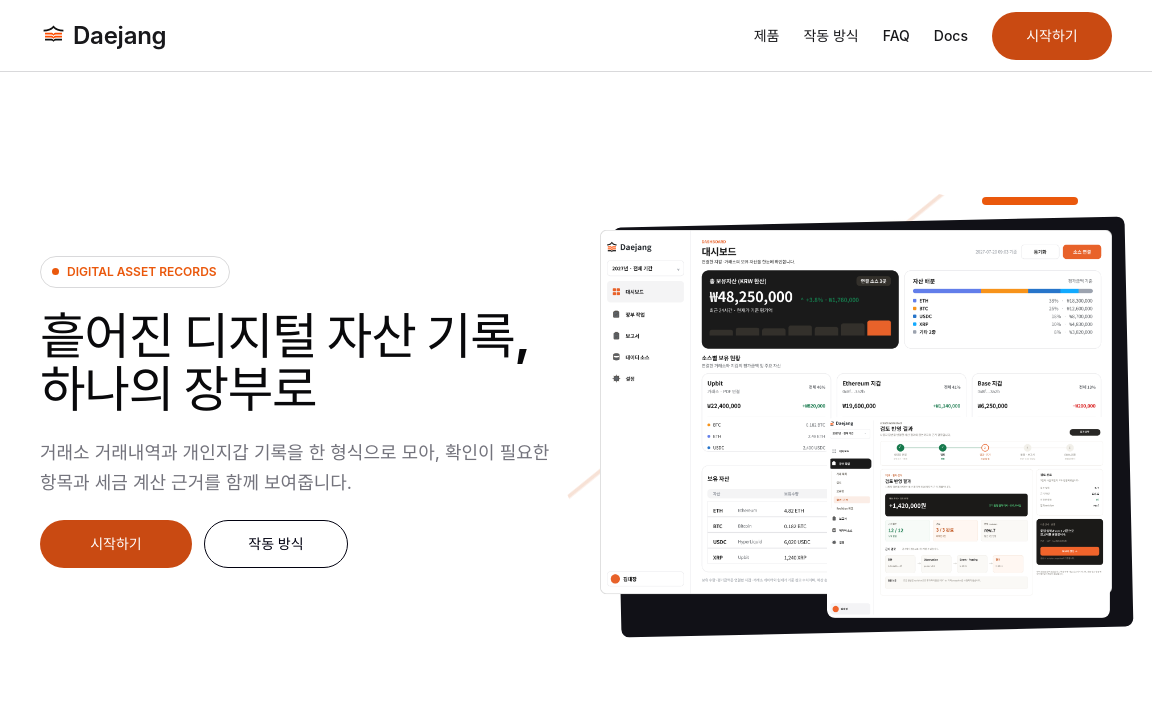
Test: AppRouter › keeps a valid root session on the landing until start opens the dashboard
Expected: the heading "흩어진 디지털 자산 기록, 하나의 장부로" is shown, [40,310,530,416]
Click the button "시작하기" next to "Docs".
click(1052, 36)  # box [992,12,1112,60]
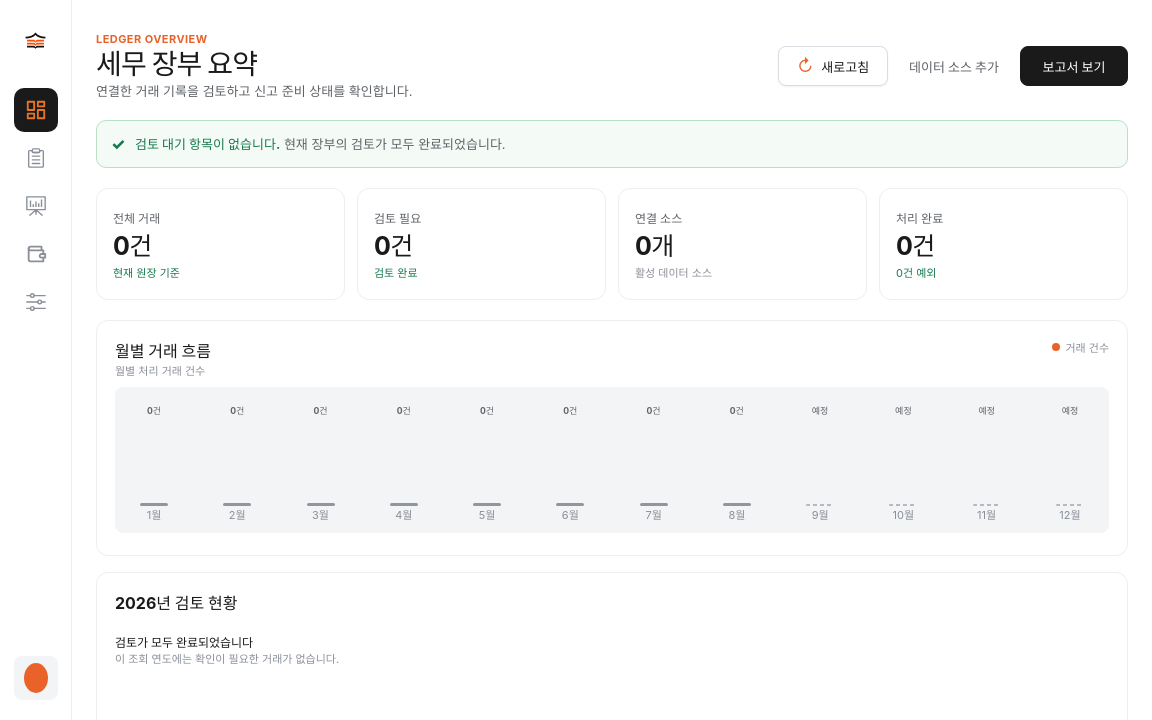
Expected: the heading "세무 장부 요약" is shown, [96,47,257,81]
